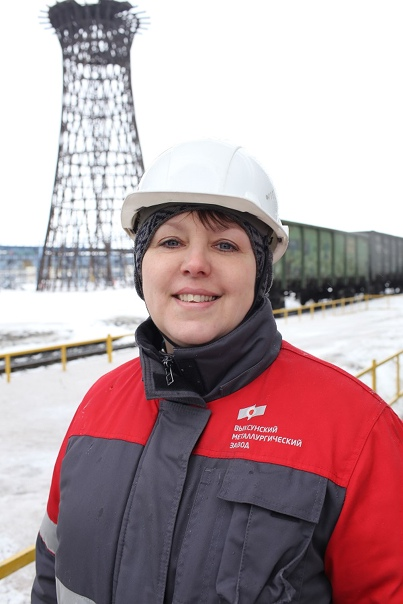person: (30, 141, 403, 602)
